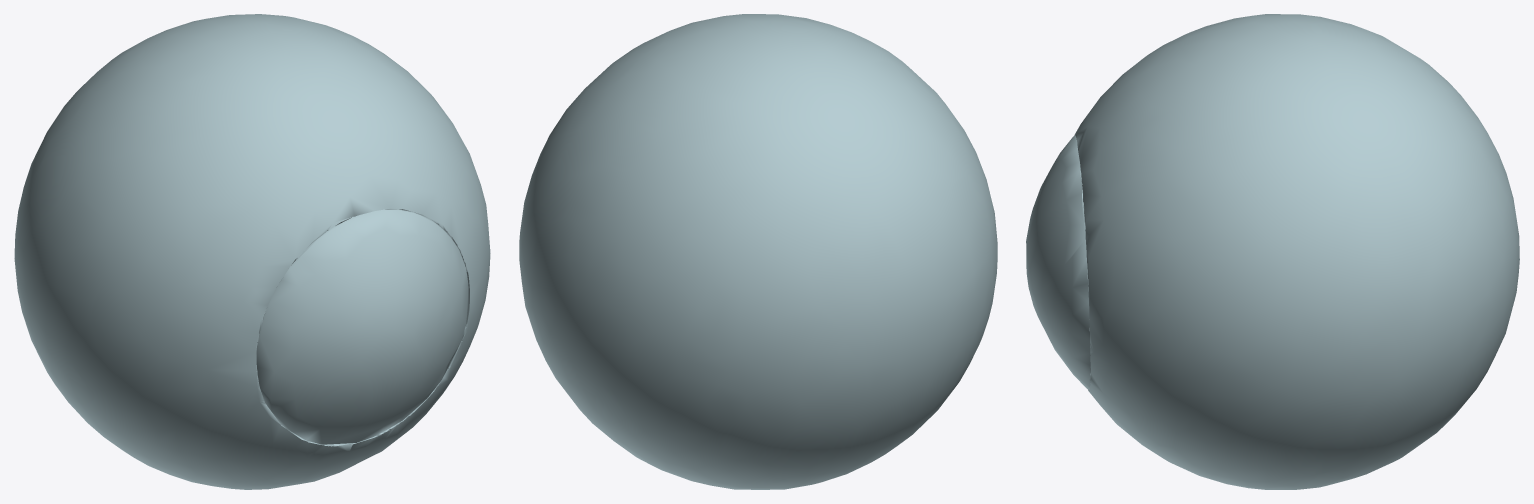
Rendered from eye.glb.
3 renders of one model, left to right at view 1: azimuth 30°, elevation 25°; view 2: azimuth 150°, elevation 25°; view 3: azimuth 270°, elevation 25°, orthographic.
Parts seen in each view (by area): view 1: Eyeball; view 2: Eyeball; view 3: Eyeball.
Part boxes in pixels (<box>): Eyeball: <box>14,14,490,489</box>; Eyeball: <box>519,14,997,489</box>; Eyeball: <box>1026,14,1519,489</box>.
Size of the model in its own units: 0.0263 by 0.0262 by 0.0272.
